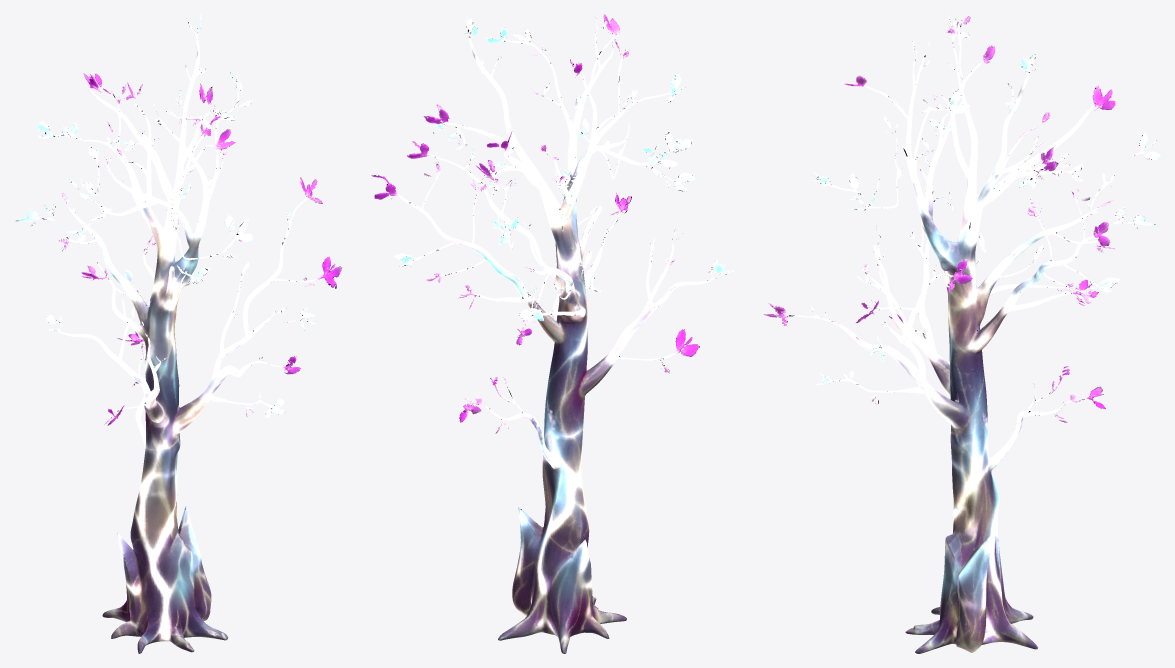
File: Tree_of_Light.fbx
3 renders of one model, left to right at view 1: azimuth 30°, elevation 25°; view 2: azimuth 150°, elevation 25°; view 3: azimuth 270°, elevation 25°, orthographic. The views are drawn at different scales.
Parts seen in each view (by area): view 1: Tree_of_Light_LOD0; view 2: Tree_of_Light_LOD0; view 3: Tree_of_Light_LOD0.
Boxes of the visible parts, x1,y1,x2,y2 form: Tree_of_Light_LOD0: (15, 14, 342, 653); Tree_of_Light_LOD0: (371, 14, 734, 653); Tree_of_Light_LOD0: (764, 14, 1160, 653).
Size of what is drawn, in the model's own units: 0.9855 by 1.9 by 1.12.
Materials: 1 (1 with a texture image).
